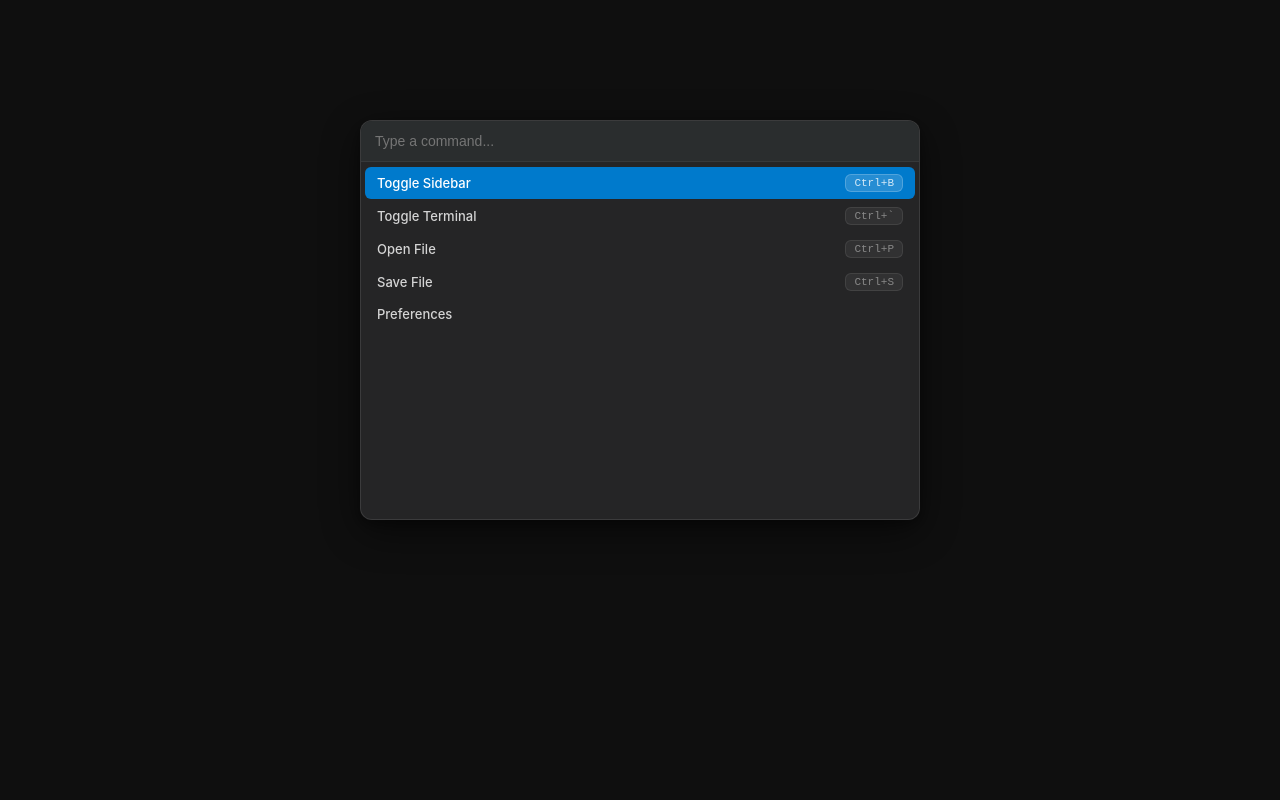
Test case: CommandPalette › shows no match message when no commands match
In the field: (640, 142) [361,121,919,162], type "zzzzz"
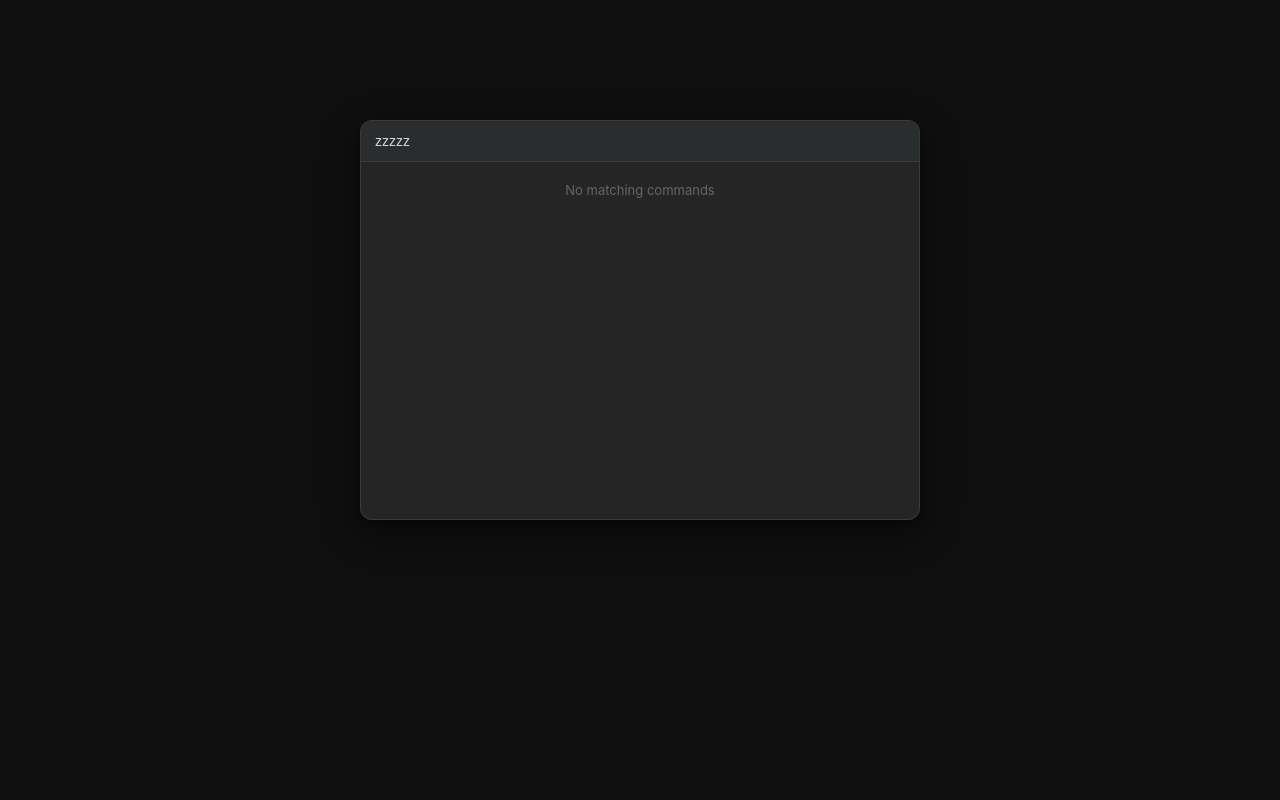
Result: the text "No matching commands" is shown at [565,182,715,198]
